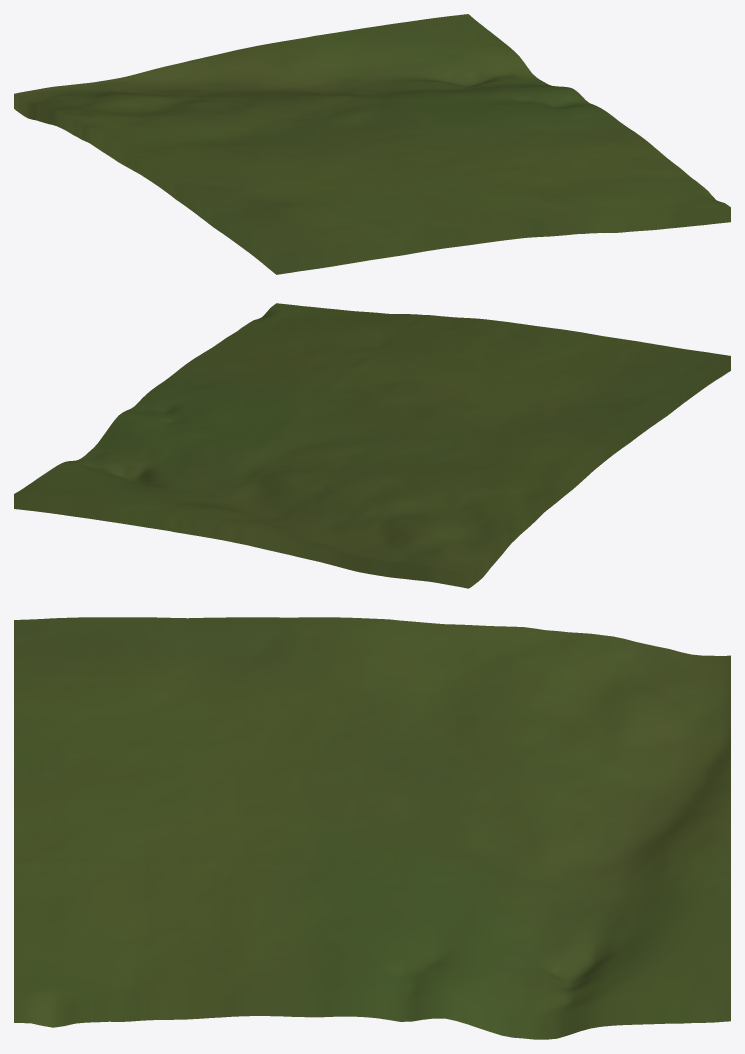
The model's file is terrain_7_-21.glb.
The picture shows the model from 3 angles, top to bottom: view 1: azimuth 30°, elevation 25°; view 2: azimuth 150°, elevation 25°; view 3: azimuth 270°, elevation 25°; orthographic projection. The views are drawn at different scales.
Parts seen in each view (by area): view 1: terrain_7_-21; view 2: terrain_7_-21; view 3: terrain_7_-21.
Part boxes in pixels (x1,y1,x2,y2): terrain_7_-21: [14, 14, 730, 274]; terrain_7_-21: [14, 303, 730, 588]; terrain_7_-21: [14, 617, 730, 1039].
Size of the model in its own units: 256 by 47.08 by 256.
